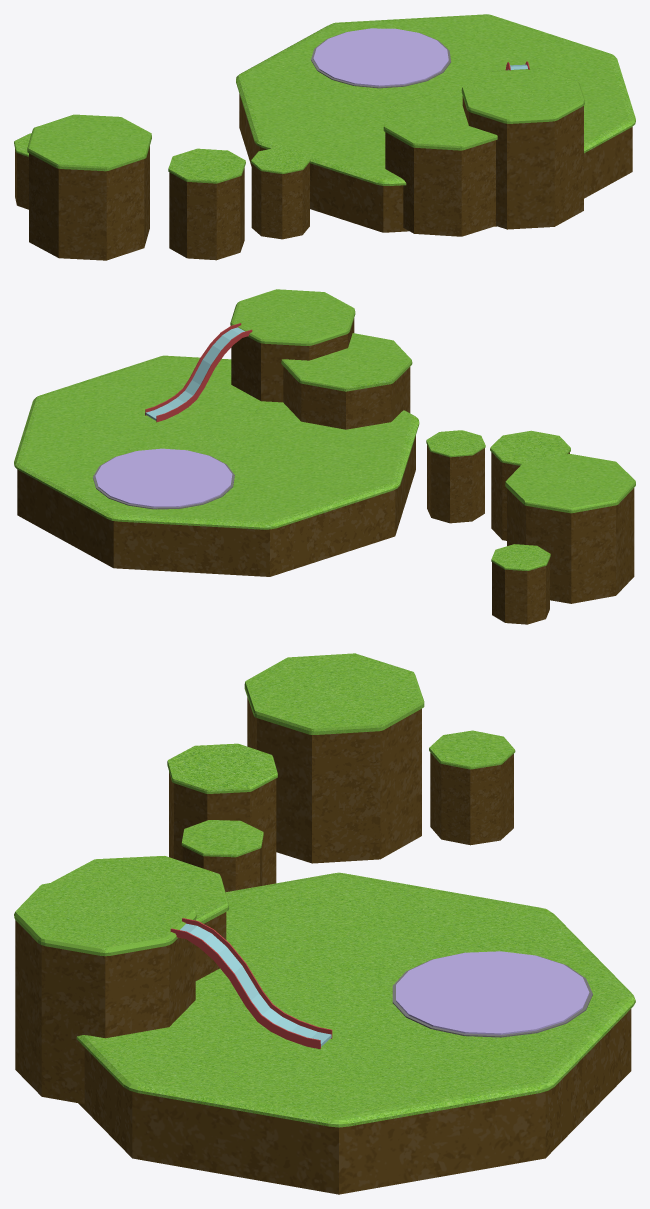
File: Map1.fbx
3 views of the same model, one above another, from view 1: azimuth 30°, elevation 25°; view 2: azimuth 150°, elevation 25°; view 3: azimuth 270°, elevation 25° (orthographic). The views are drawn at different scales.
Parts seen in each view (by area): view 1: Ground Grass, Small Mountain.002, Big Mountain, Small Mountain, Ground, Spinner Platform.001, Small Mountain.001, Small Mountain Grass.001, Big Mountain Gun, Small Mountain Grass, Small Mountain.003, Small Mountain Grass.002 (+3 smaller); view 2: Ground Grass, Ground, Small Mountain.002, Spinner Platform.001, Small Mountain Grass.001, Big Mountain Gun, Small Mountain, Small Mountain Grass, Big Mountain, Small Mountain.003, Small Mountain.004, Cube (+5 smaller); view 3: Ground Grass, Ground, Small Mountain.002, Big Mountain, Spinner Platform.001, Small Mountain Grass.001, Big Mountain Gun, Small Mountain.004, Small Mountain.001, Cube, Small Mountain Grass.002, Small Mountain Grass (+5 smaller).
Part boxes in pixels (left/top/right/bottom): Ground Grass: left=236, top=14, right=635, bottom=185; Small Mountain.002: left=29, top=146, right=149, bottom=260; Big Mountain: left=462, top=96, right=583, bottom=229; Small Mountain: left=385, top=132, right=495, bottom=236; Ground: left=239, top=94, right=632, bottom=232; Spinner Platform.001: left=313, top=28, right=448, bottom=86; Small Mountain.001: left=169, top=168, right=244, bottom=260; Small Mountain Grass.001: left=27, top=114, right=151, bottom=171; Big Mountain Gun: left=461, top=68, right=584, bottom=123; Small Mountain Grass: left=383, top=94, right=497, bottom=150; Small Mountain.003: left=251, top=162, right=309, bottom=239; Small Mountain Grass.002: left=168, top=148, right=245, bottom=183; Ground Grass: left=14, top=355, right=419, bottom=529; Ground: left=17, top=436, right=415, bottom=576; Small Mountain.002: left=507, top=488, right=634, bottom=603; Spinner Platform.001: left=95, top=448, right=232, bottom=507; Small Mountain Grass.001: left=505, top=454, right=635, bottom=513; Big Mountain Gun: left=230, top=289, right=355, bottom=345; Small Mountain: left=283, top=366, right=410, bottom=429; Small Mountain Grass: left=281, top=333, right=412, bottom=391; Big Mountain: left=231, top=318, right=354, bottom=402; Small Mountain.003: left=427, top=445, right=484, bottom=523; Small Mountain.004: left=492, top=558, right=549, bottom=624; Cube: left=145, top=323, right=252, bottom=422; Ground Grass: left=76, top=872, right=635, bottom=1127; Ground: left=78, top=1009, right=631, bottom=1194; Small Mountain.002: left=247, top=697, right=421, bottom=863; Big Mountain: left=15, top=920, right=195, bottom=1104; Spinner Platform.001: left=396, top=951, right=589, bottom=1034; Small Mountain Grass.001: left=244, top=653, right=424, bottom=734; Big Mountain Gun: left=14, top=873, right=196, bottom=956; Small Mountain.004: left=430, top=753, right=513, bottom=845; Small Mountain.001: left=169, top=772, right=276, bottom=885; Cube: left=170, top=918, right=332, bottom=1048; Small Mountain Grass.002: left=167, top=743, right=277, bottom=793; Small Mountain Grass: left=51, top=856, right=228, bottom=923.
Size of the model in its own units: 4813 by 919 by 3107.
